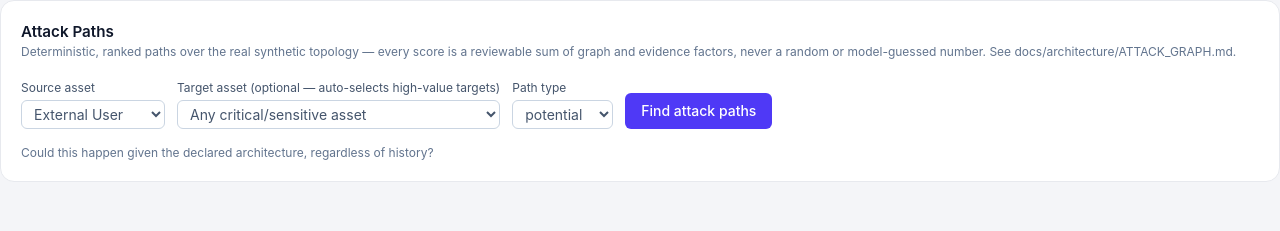
Test: Attack Paths panel › labels the active path type distinctly
The width and height of the screenshot is (1280, 231).
Expected: the text "Could this happen given the declared architecture" is shown, top-left (21, 145), bottom-right (434, 160)
Select "observed" in the dropdown showing "potential" at (563, 114), box top-left (512, 100), bottom-right (613, 129)
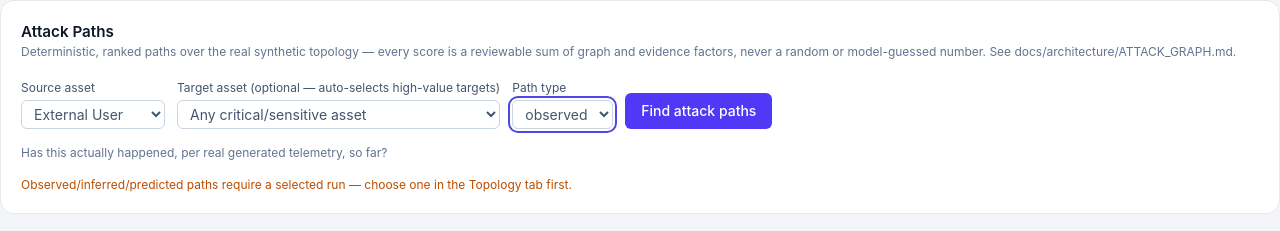
Expected: the text "Has this actually happened, per real generated telemetry" is shown, top-left (21, 145), bottom-right (388, 160)
